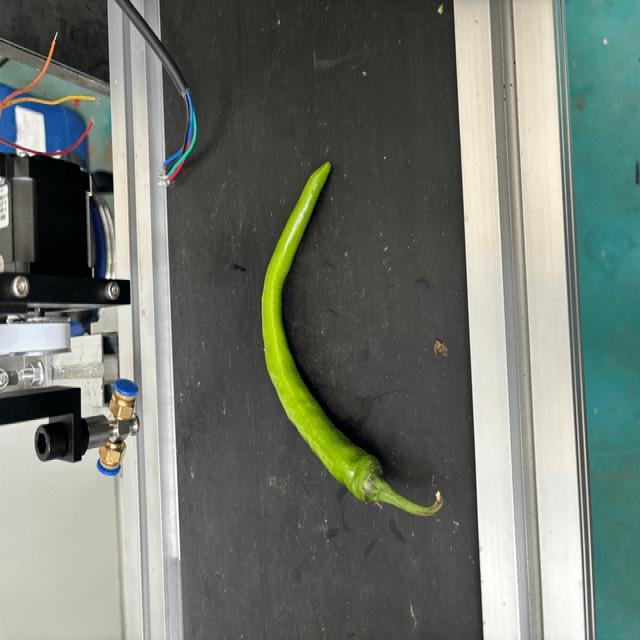chili: (259, 159, 385, 501)
